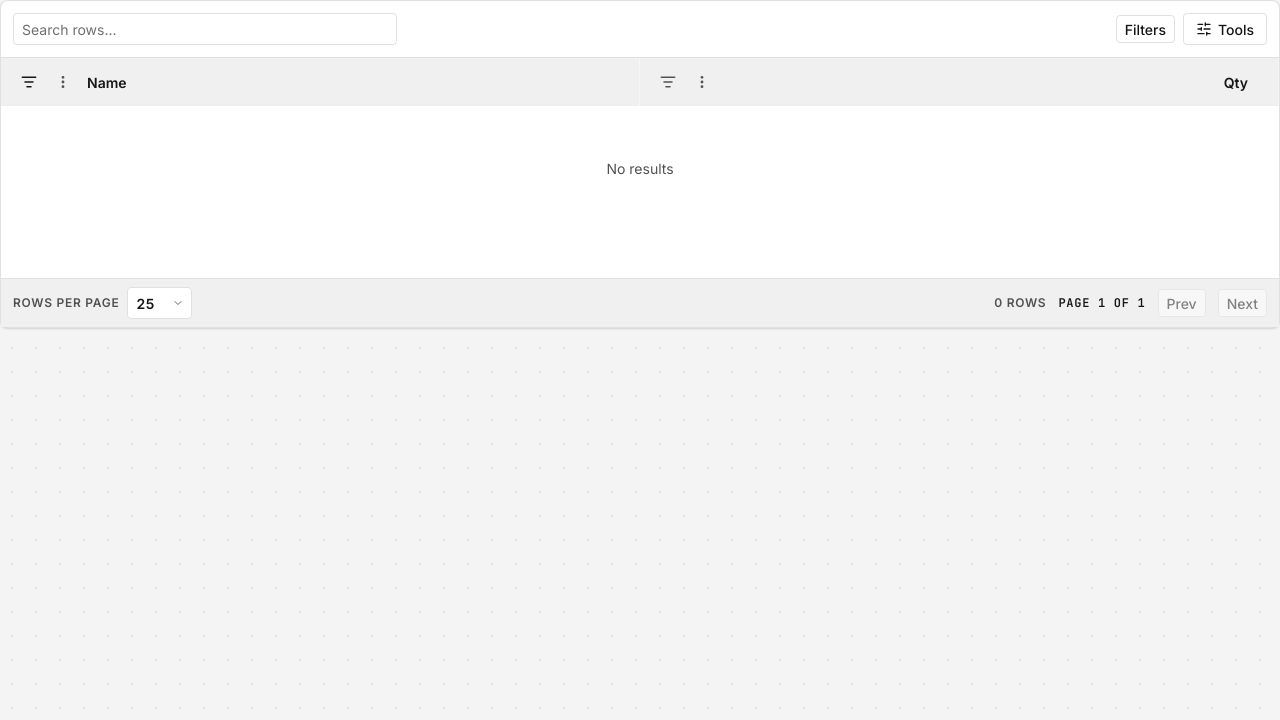
it: floating filter sync › summarizes a valueless filter (blank) as a chip
The width and height of the screenshot is (1280, 720).
Click the button "Filters" at (1145,29), box [1116,15,1175,43]
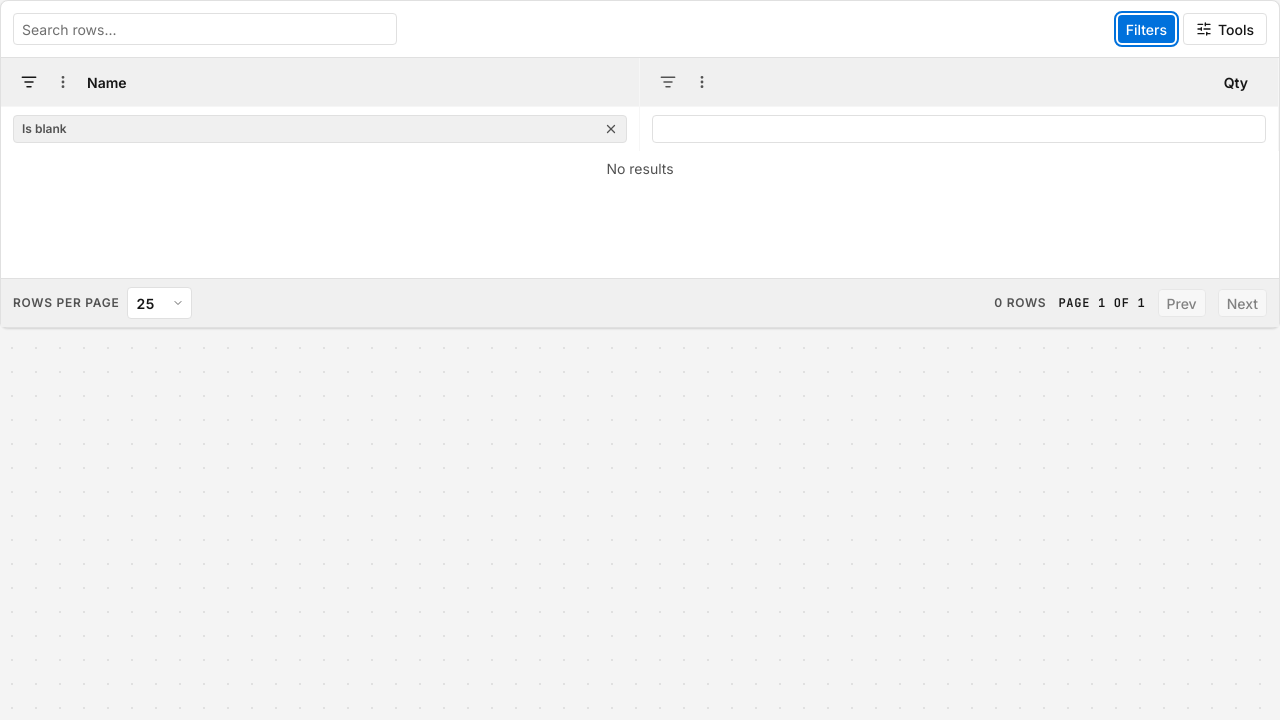
Now the text "Is blank" is shown, box [22,120,67,138]
